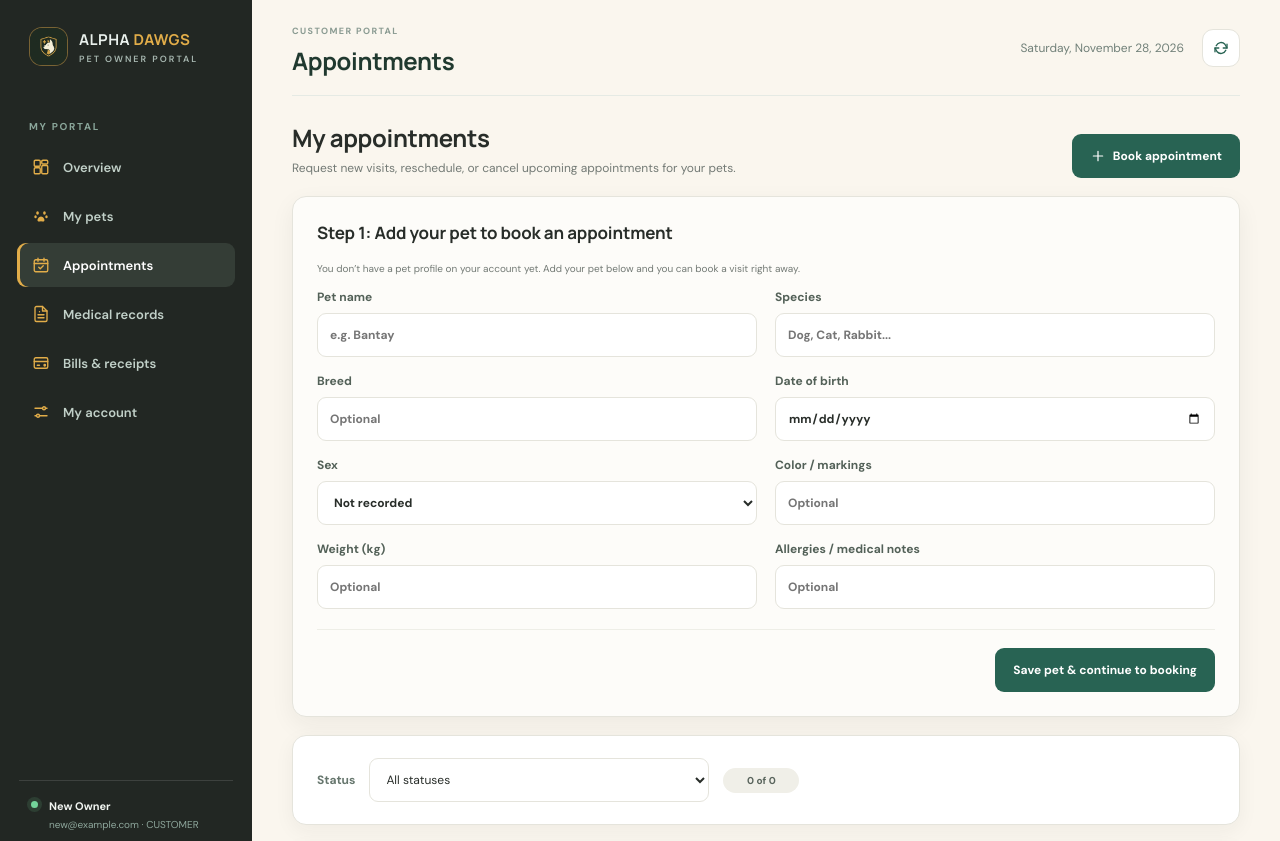
Test: clinic portals and routing › guides a new customer with no pets to add a pet and book an appointment
The image size is (1280, 841).
Expected: the heading "Step 1: Add your pet to book an appointment" is shown, [317,221,673,244]
Type "Buddy" into the field labelled "Pet name".
click(537, 335); type("Buddy")  # box [317,313,757,357]
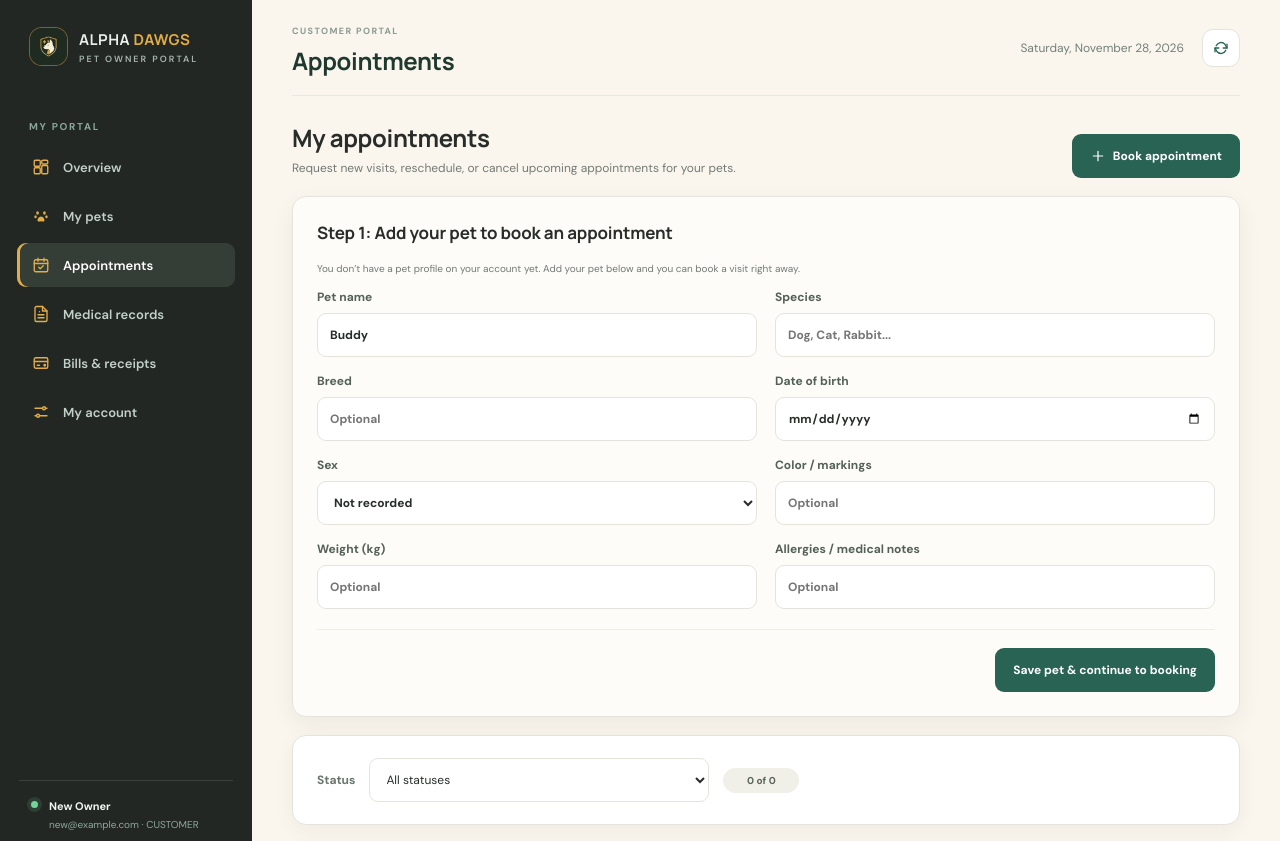
Type "Dog" into the field labelled "Species".
click(995, 335); type("Dog")  # box [775,313,1215,357]
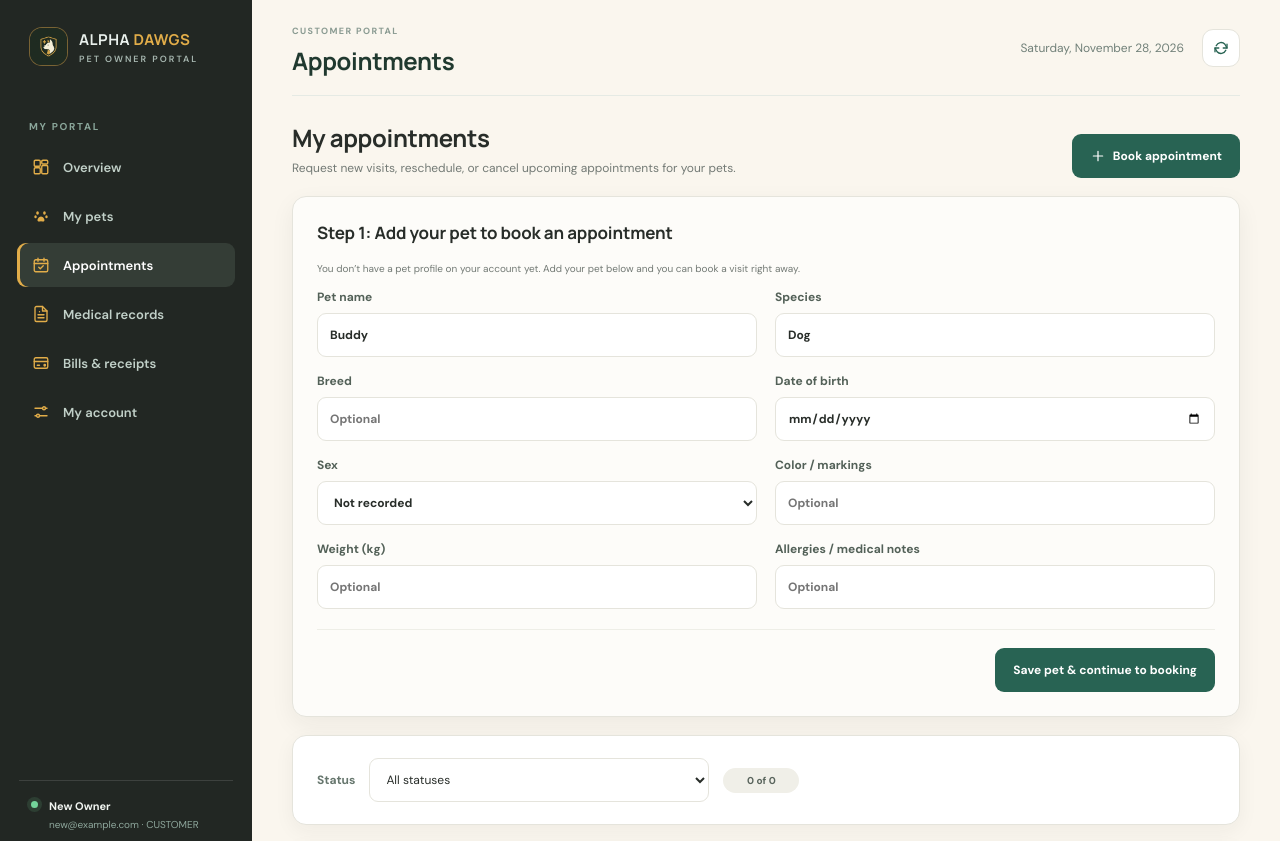
Click the button "Save pet & continue to booking".
click(1105, 670)  # box [995,648,1215,692]
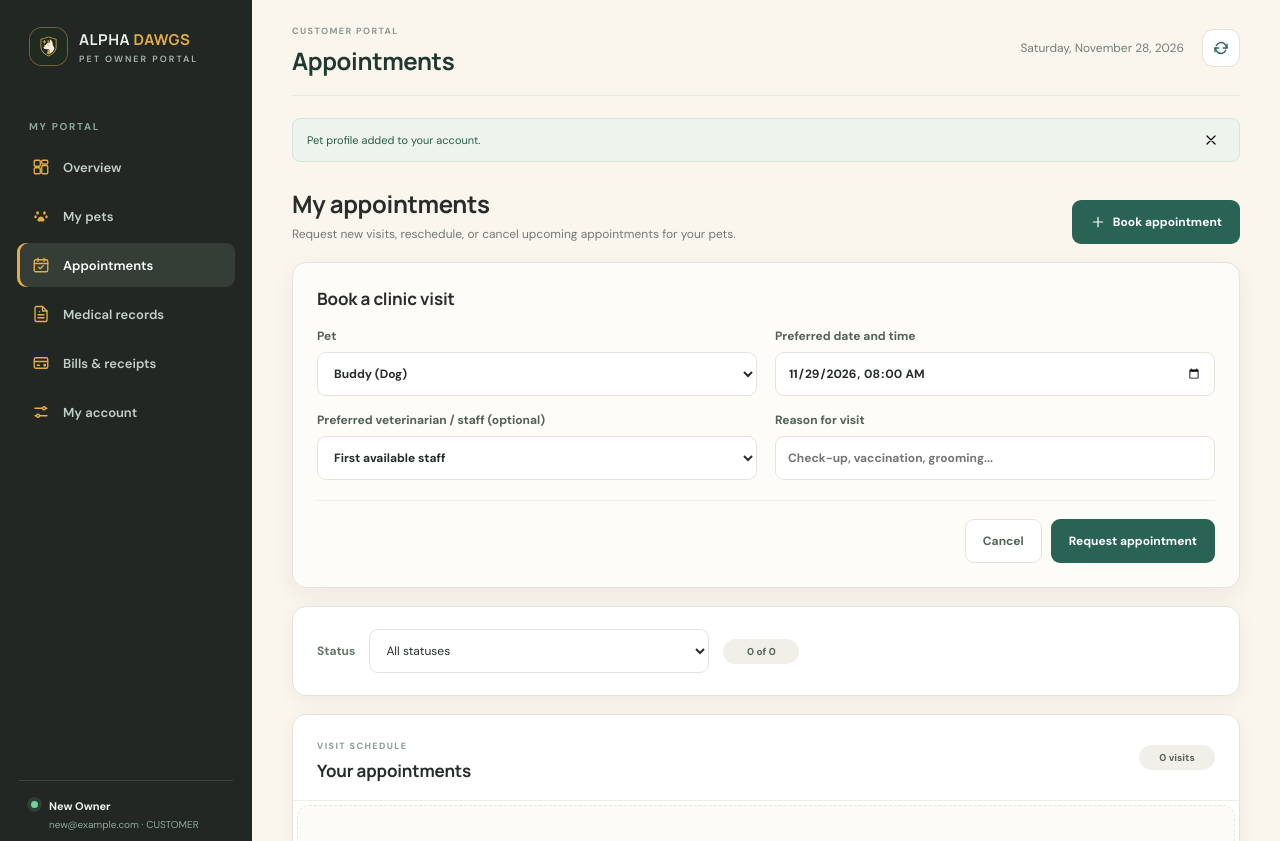
Result: the heading "Book a clinic visit" is shown at [317,287,455,310]
